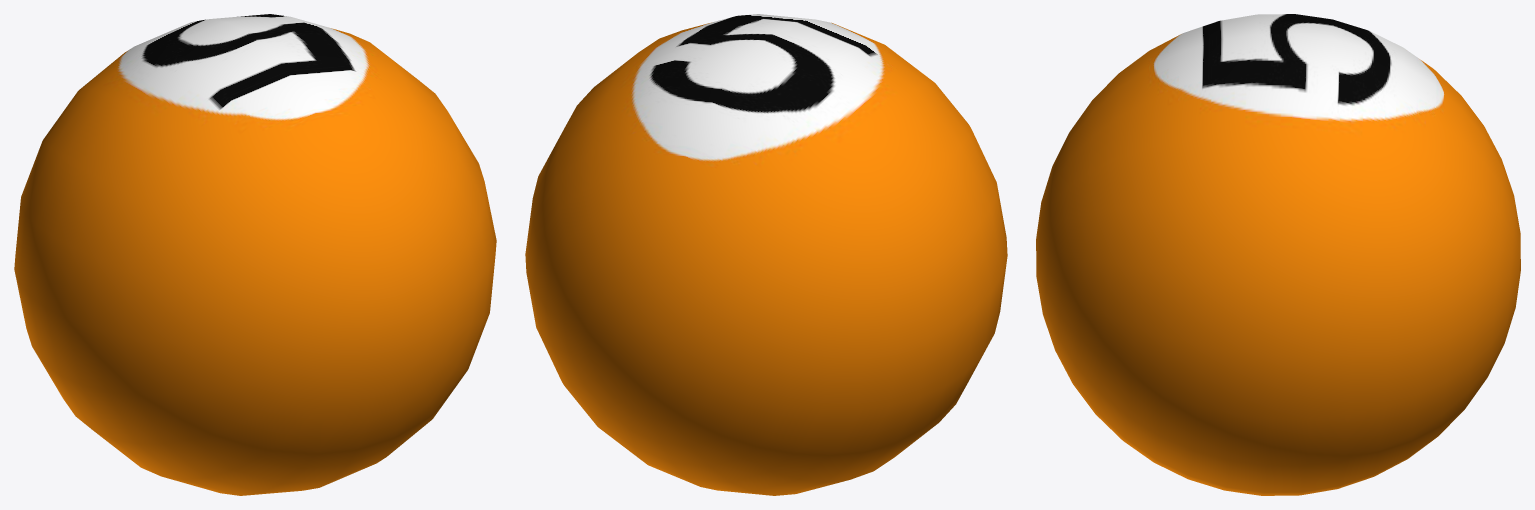
Rendered from Ball5.fbx.
3 views of the same model, side by side, from view 1: azimuth 30°, elevation 25°; view 2: azimuth 150°, elevation 25°; view 3: azimuth 270°, elevation 25° (orthographic).
Parts seen in each view (by area): view 1: pSphere1; view 2: pSphere1; view 3: pSphere1.
Boxes of the visible parts, <box> form: pSphere1: <box>14,14,496,495</box>; pSphere1: <box>525,14,1007,495</box>; pSphere1: <box>1036,14,1520,495</box>.
Size of the model in its own units: 2 by 1.99 by 2.
